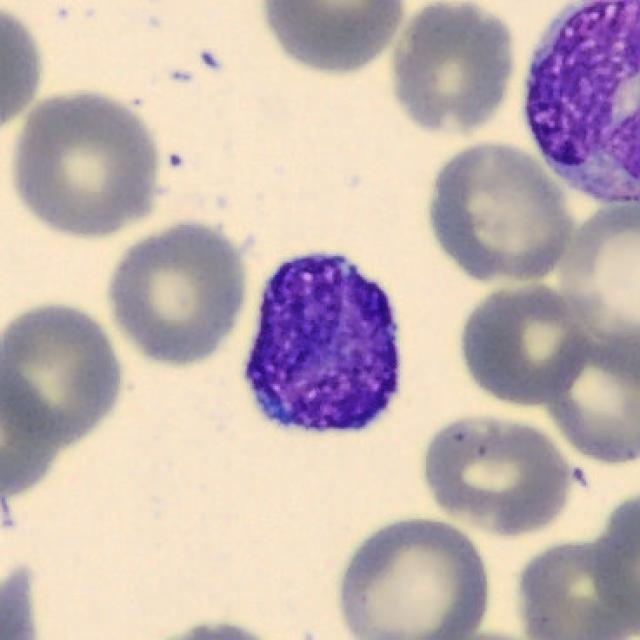Linfocito: (243, 254, 400, 432)
